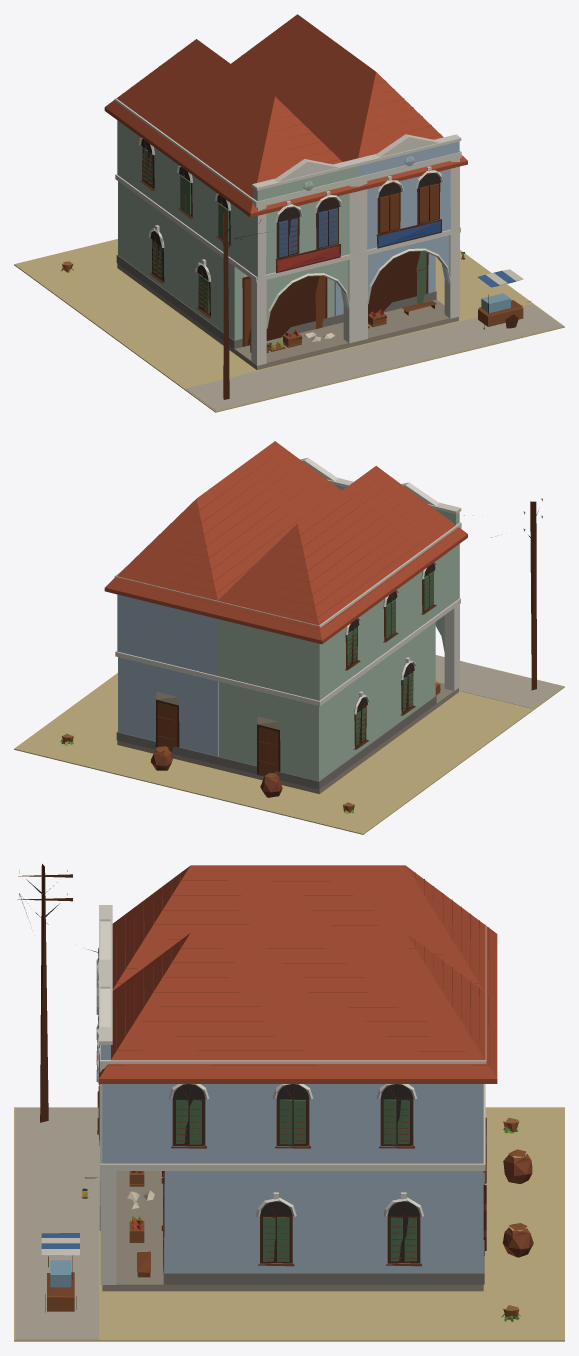
File: shop_2.glb
3 views of the same model, one above another, from view 1: azimuth 30°, elevation 25°; view 2: azimuth 150°, elevation 25°; view 3: azimuth 270°, elevation 25° (orthographic). The views are drawn at different scales.
Parts seen in each view (by area): view 1: body, windows; view 2: body, windows; view 3: body, windows.
Boxes of the visible parts, x1,y1,x2,y2 form: body: (14, 14, 564, 412); windows: (141, 139, 464, 313); body: (14, 441, 564, 834); windows: (346, 563, 435, 745); body: (14, 864, 564, 1341); windows: (82, 1084, 419, 1261).
Size of the model in its own units: 15.9 by 10.7 by 15.9.
